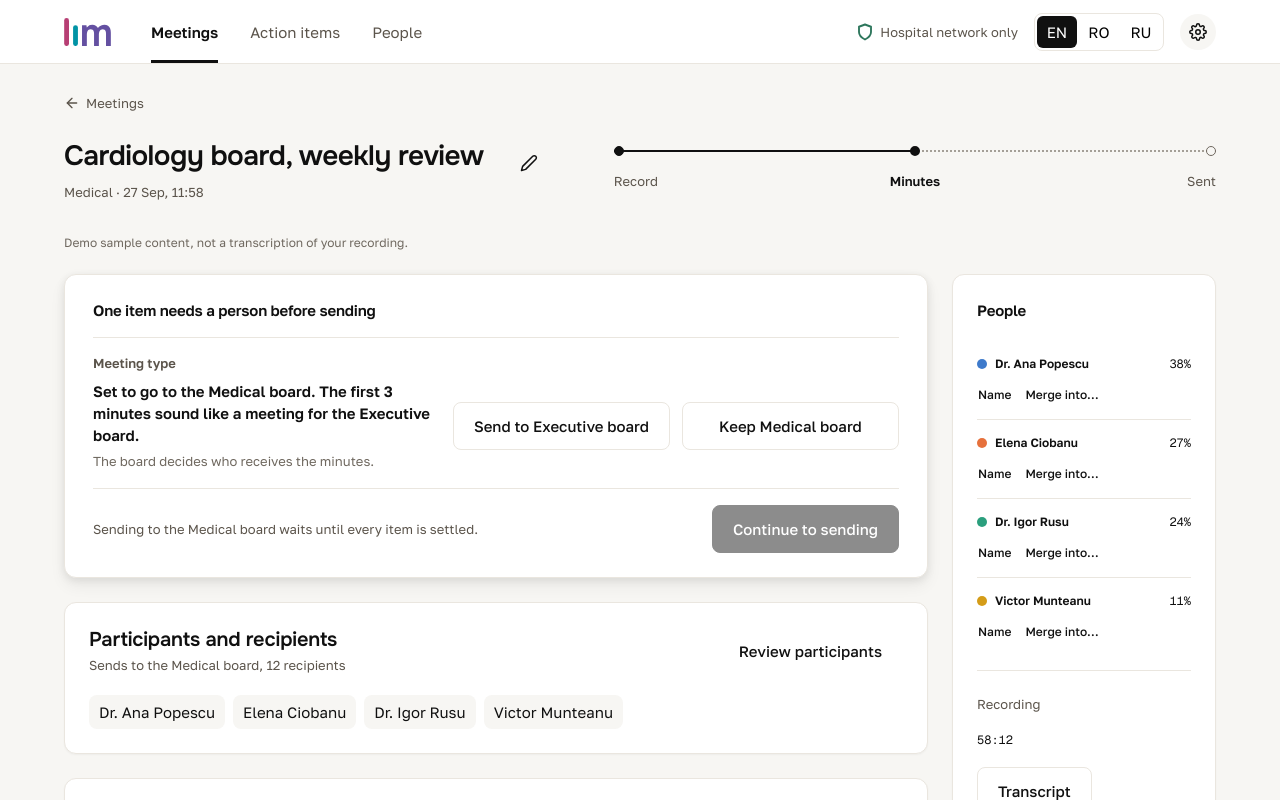
the meeting-type check › keeps the chosen board in plain words
The image size is (1280, 800).
Click the button "Keep Medical board" at [790, 426], box x1=682 y1=402 x2=899 y2=450
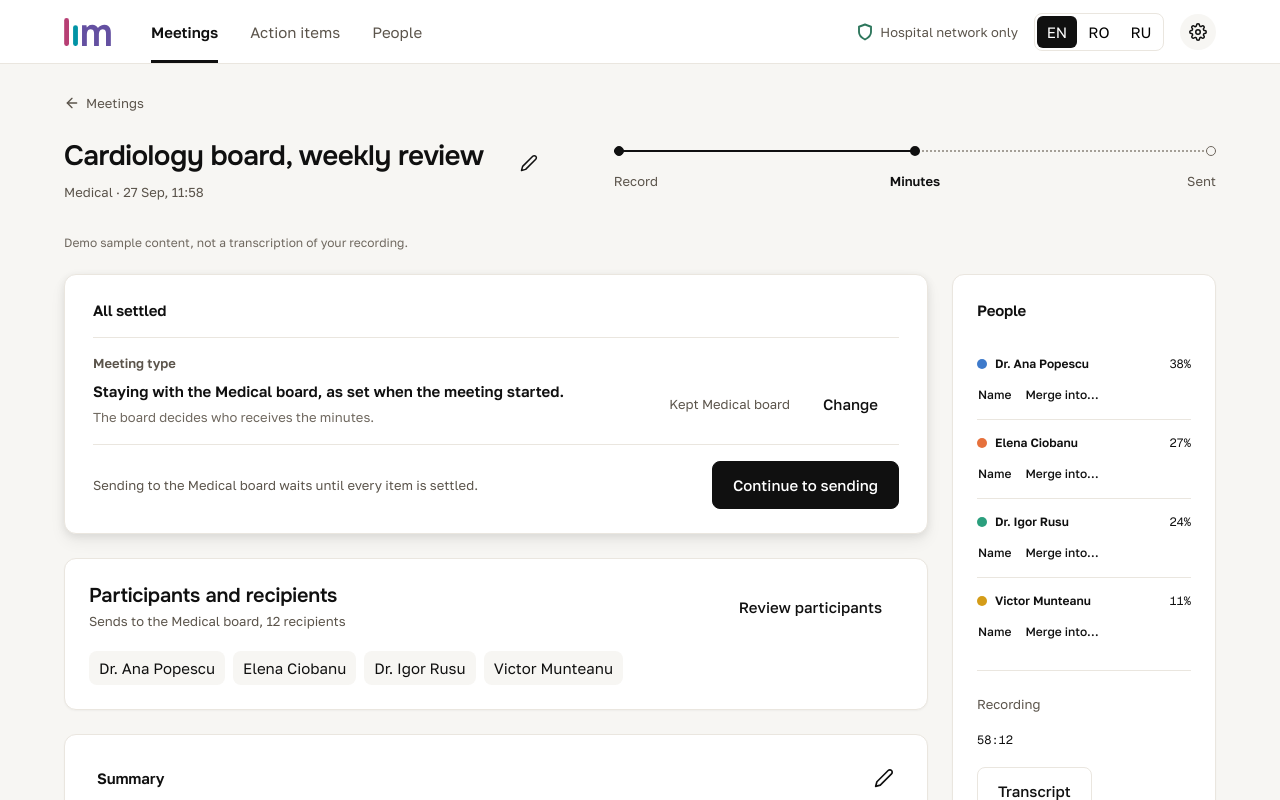
Expected: the text "Kept Medical board" is shown, x1=669 y1=393 x2=790 y2=415
